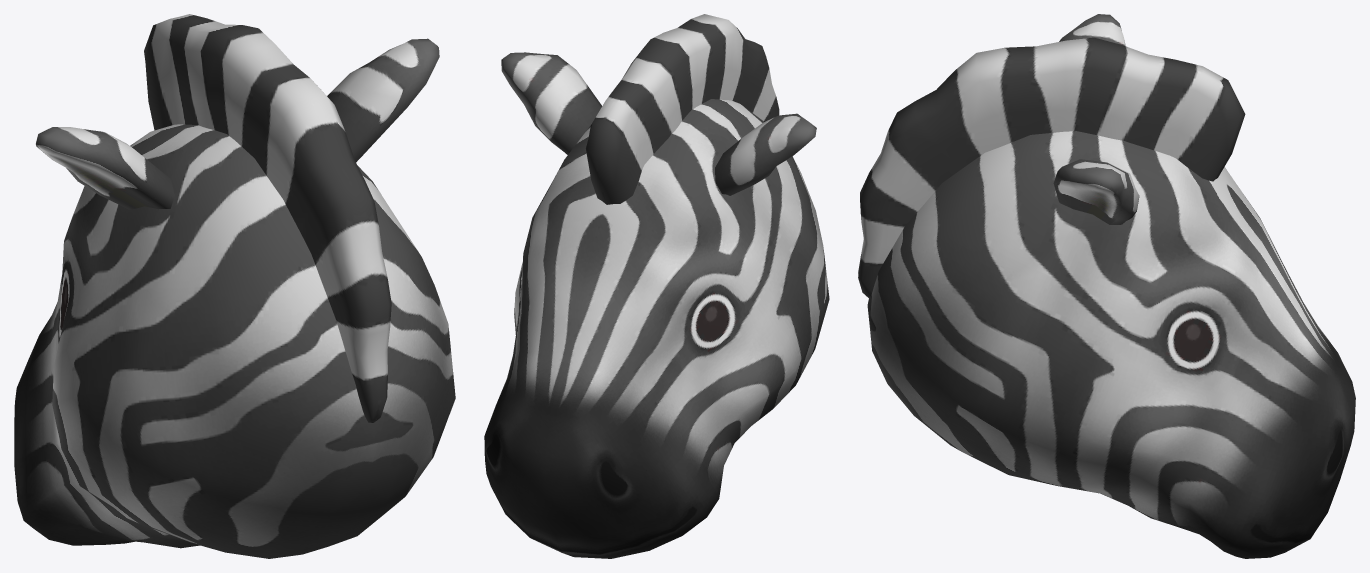
The model's file is Zebra.glb.
3 views of the same model, side by side, from view 1: azimuth 30°, elevation 25°; view 2: azimuth 150°, elevation 25°; view 3: azimuth 270°, elevation 25° (orthographic). The views are drawn at different scales.
Visible parts, largest first — view 1: Zebra; view 2: Zebra; view 3: Zebra.
Boxes of the visible parts, x1=… form: Zebra: x1=14, y1=14, x2=455, y2=558; Zebra: x1=484, y1=14, x2=829, y2=558; Zebra: x1=858, y1=14, x2=1355, y2=558.
Bounding box in the file's own units: 0.7343 × 1.01 × 0.9144.
1 material, 1 textured.
